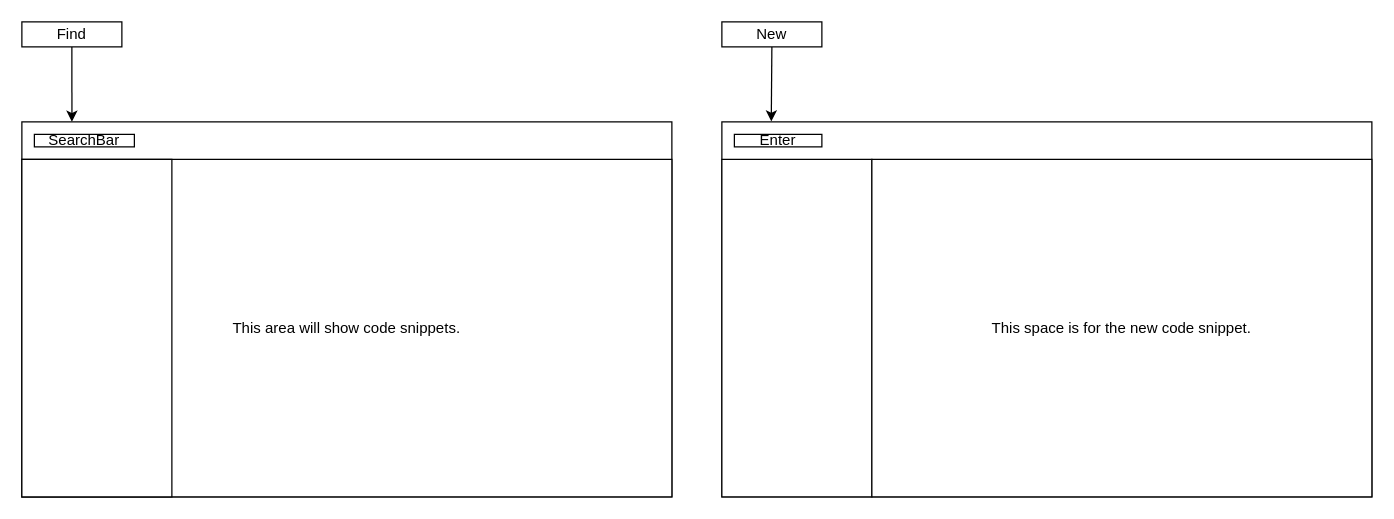
The diagram is 1394 pixels wide and 519 high, and some of its shapes have lost their labels. Each missing label, with the centre of its shape:
This space is for keywords, a component of snippet organization.: point 796,327
This will display a folder system for code snippets.: point 96,327
